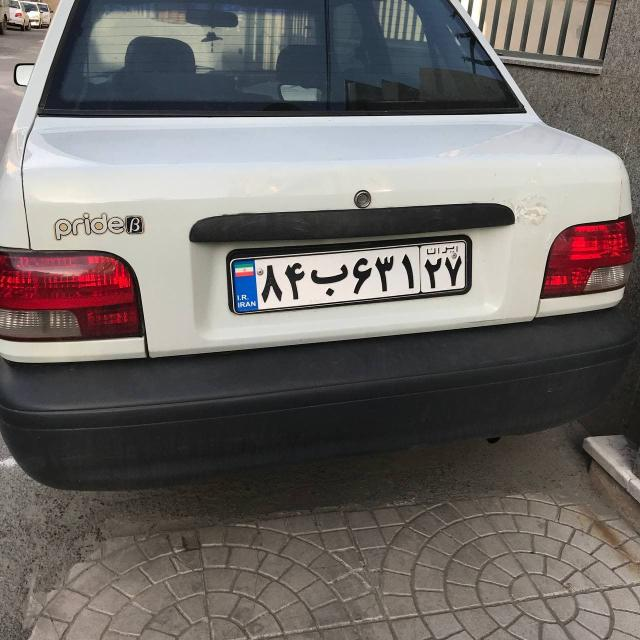Plates: (229, 235, 471, 314)
